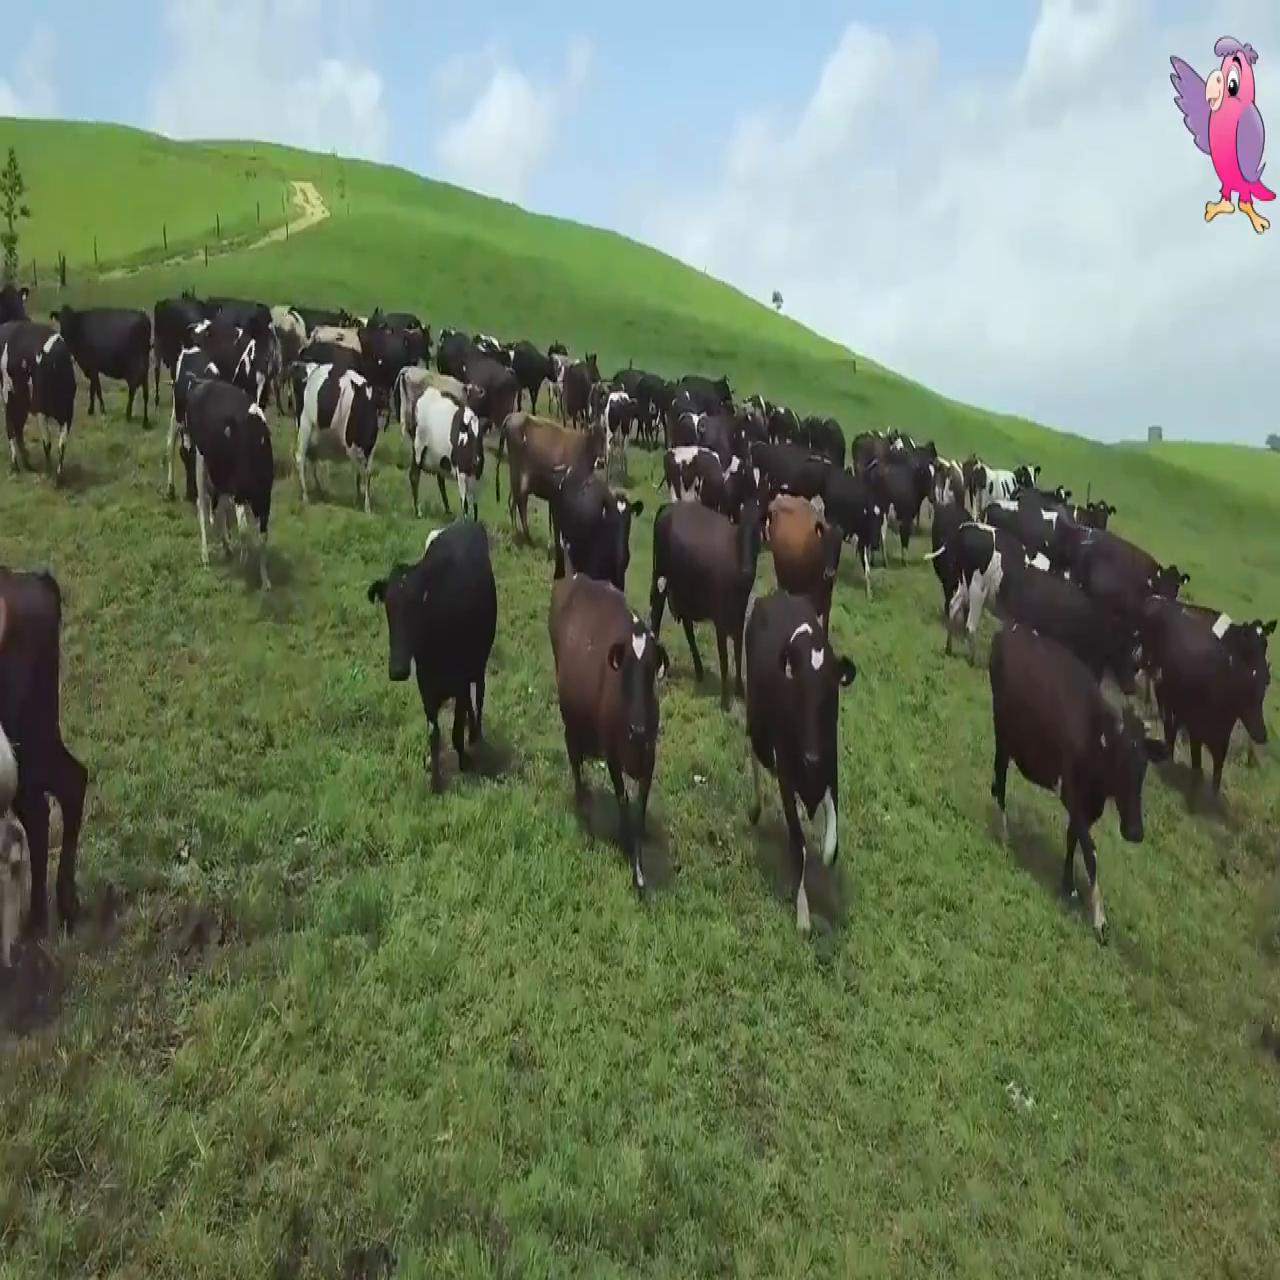cow: (0, 478, 105, 1029), (993, 624, 1144, 948), (1039, 468, 1219, 710), (547, 574, 669, 900), (366, 519, 501, 789), (1133, 578, 1274, 835), (744, 595, 852, 930), (169, 359, 302, 598), (136, 253, 287, 461), (930, 424, 1121, 564), (920, 506, 1048, 686), (648, 490, 755, 689), (45, 282, 156, 454), (620, 340, 751, 478), (0, 311, 90, 508), (499, 393, 615, 540), (742, 403, 873, 501), (293, 365, 381, 509), (468, 321, 593, 417), (835, 428, 946, 535), (376, 333, 482, 443), (411, 387, 485, 520), (654, 422, 740, 535), (554, 468, 636, 584), (764, 491, 839, 598)
